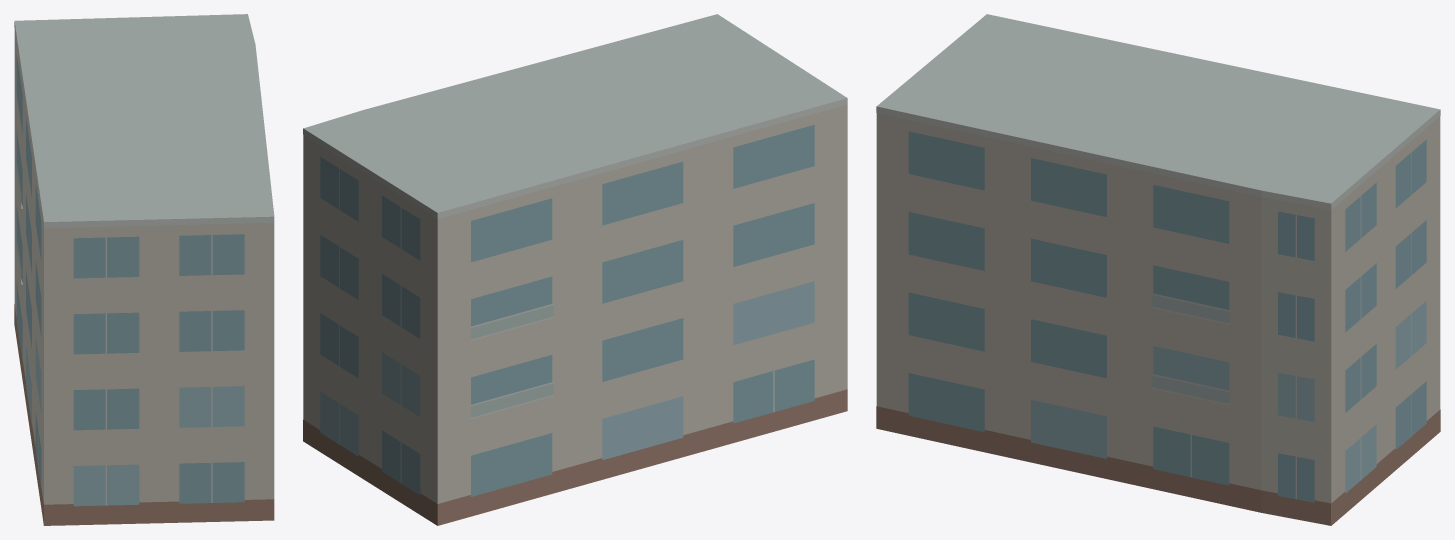
The model's file is survey-upis-32643657.glb.
The picture shows the model from 3 angles, left to right: view 1: azimuth 30°, elevation 25°; view 2: azimuth 150°, elevation 25°; view 3: azimuth 270°, elevation 25°; orthographic projection. The views are drawn at different scales.
Parts seen in each view (by area): view 1: survey-upis-32643657.tmp; view 2: survey-upis-32643657.tmp; view 3: survey-upis-32643657.tmp.
Part boxes in pixels (x1,y1,x2,y2): survey-upis-32643657.tmp: (14,14,274,525); survey-upis-32643657.tmp: (303,14,847,525); survey-upis-32643657.tmp: (876,14,1440,525).
Size of the model in its own units: 15.4 by 12.2 by 19.36.
